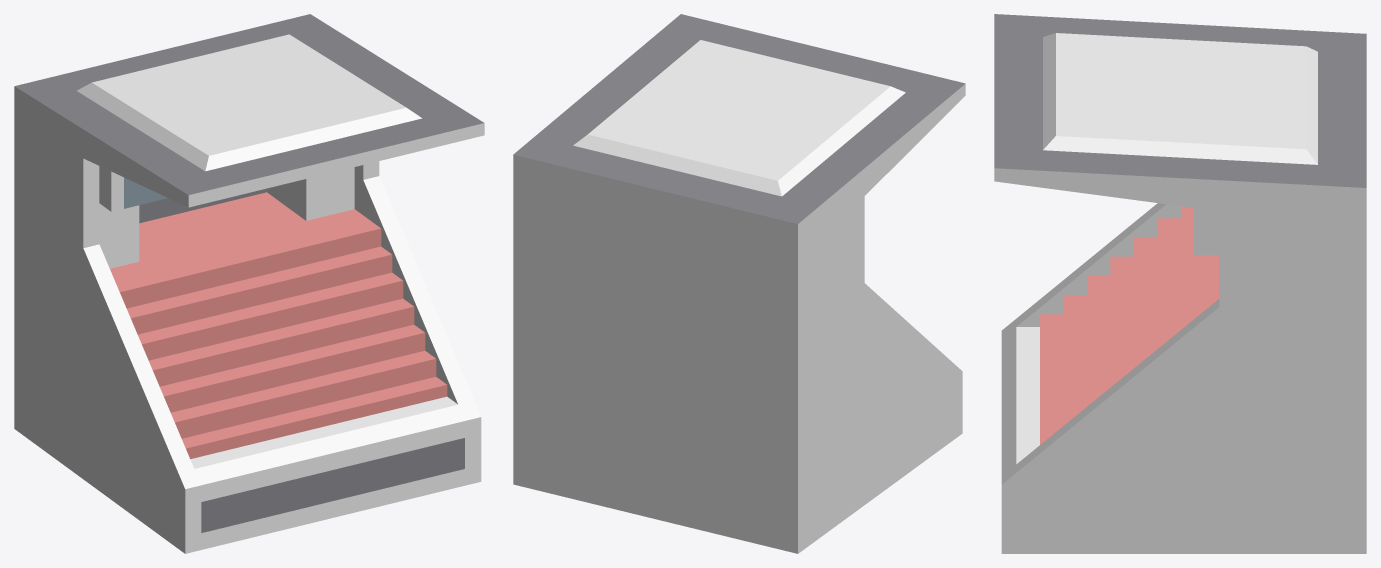
The model's file is grand-stand-covered.glb.
3 renders of one model, left to right at view 1: azimuth 30°, elevation 25°; view 2: azimuth 150°, elevation 25°; view 3: azimuth 270°, elevation 25°, orthographic. The views are drawn at different scales.
Parts seen in each view (by area): view 1: grandStandCovered(Clone); view 2: grandStandCovered(Clone); view 3: grandStandCovered(Clone).
Boxes of the visible parts, bbox=[...] form: grandStandCovered(Clone): bbox=[14, 14, 484, 553]; grandStandCovered(Clone): bbox=[513, 14, 965, 553]; grandStandCovered(Clone): bbox=[994, 14, 1366, 553].
Size of the model in its own units: 1 by 1.19 by 1.02.
Materials: 1 (1 with a texture image).
